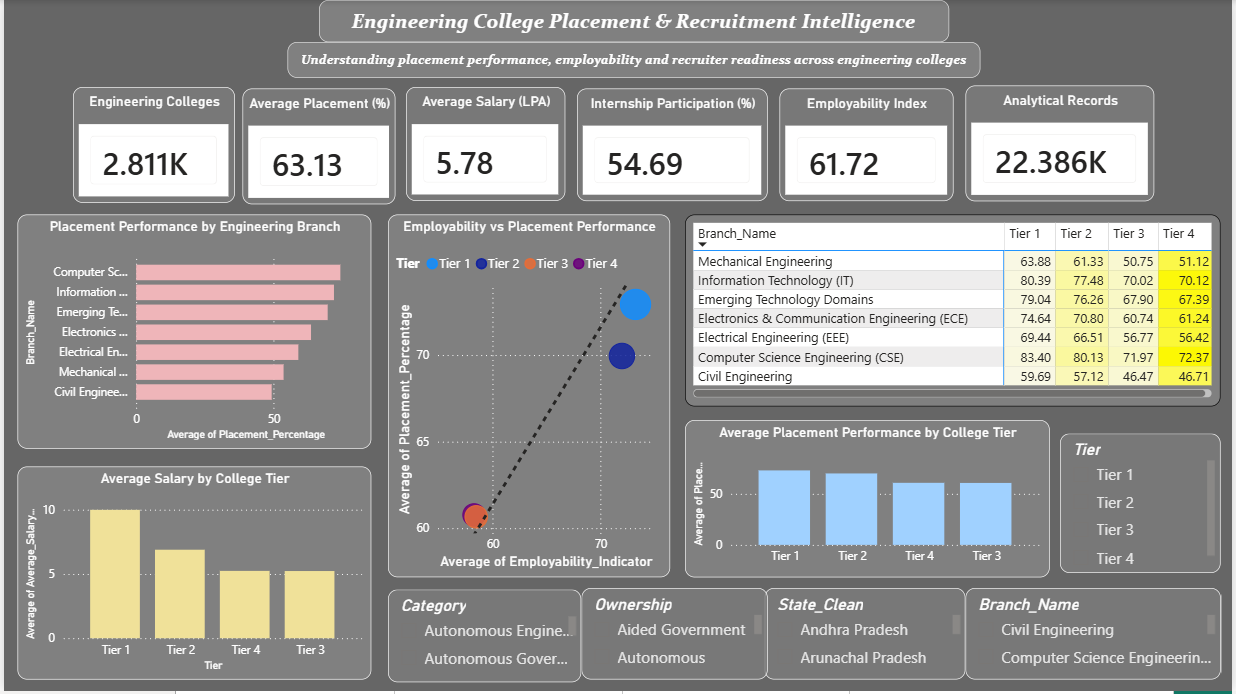

The dashboard page shown, as its layout file describes it:
{"tool":"powerbi","page":{"name":"Executive Overview","canvas":[1280,720],"ordinal":0},"visuals":[{"type":"textbox","box":[328.2,0,656.5,43.8],"z":0},{"type":"textbox","box":[295.4,43.8,722.1,37.5],"z":1000},{"type":"cardVisual","title":"Engineering Colleges","fields":{"Data":["Count(Sheet1.College_Name)"]},"box":[71.9,90.7,168.8,120.4],"z":2000},{"type":"cardVisual","title":"Average Placement (%)","fields":{"Data":["Avg(Sheet1.Placement_Percentage)"]},"box":[248.5,92.2,159.4,120.4],"z":3000},{"type":"cardVisual","title":"Average Salary (LPA)","fields":{"Data":["Avg(Sheet1.Average_Salary_LPA)"]},"box":[418.9,90.7,165.7,118.8],"z":4000},{"type":"cardVisual","title":"Internship Participation (%)","fields":{"Data":["Avg(Sheet1.Internship_Participation_Pct)"]},"box":[597.1,92.2,198.5,117.2],"z":5000},{"type":"cardVisual","title":"Employability Index","fields":{"Data":["Avg(Sheet1.Employability_Indicator)"]},"box":[808.1,92.2,181.3,117.2],"z":6000},{"type":"cardVisual","title":"Analytical Records","fields":{"Data":["CountNonNull(Sheet1.College_Name)"]},"box":[1001.9,89.1,196.9,120.4],"z":7000},{"type":"scatterChart","title":"Employability vs Placement Performance","fields":{"X":["Avg(Sheet1.Employability_Indicator)"],"Y":["Avg(Sheet1.Placement_Percentage)"],"Size":["Avg(Sheet1.Average_Salary_LPA)"],"Series":["Sheet1.Tier"]},"box":[400.1,223.5,293.8,378.2],"z":8000},{"type":"clusteredColumnChart","title":"Average Placement Performance by College Tier","fields":{"Category":["Sheet1.Tier"],"Y":["Avg(Sheet1.Placement_Percentage)"]},"box":[709.6,437.6,379.8,164.1],"z":9000},{"type":"clusteredColumnChart","title":"Average Salary by College Tier","fields":{"Category":["Sheet1.Tier"],"Y":["Avg(Sheet1.Average_Salary_LPA)"]},"box":[14.1,486.1,368.9,221.9],"z":10000},{"type":"clusteredBarChart","title":"Placement Performance by Engineering Branch","fields":{"Category":["Sheet1.Branch_Name"],"Y":["Avg(Sheet1.Placement_Percentage)"]},"box":[14.1,223.5,368.9,243.8],"z":11000},{"type":"pivotTable","fields":{"Rows":["Sheet1.Branch_Name"],"Columns":["Sheet1.Tier"],"Values":["Avg(Sheet1.Placement_Percentage)"]},"box":[709.6,223.5,558,200.1],"z":12000},{"type":"slicer","title":"State","fields":{"Values":["Sheet1.State_Clean"]},"box":[792.4,612.7,209.4,95.3],"z":13000},{"type":"slicer","fields":{"Values":["Sheet1.Tier"]},"box":[1100.3,451.7,167.2,145.4],"z":14000},{"type":"slicer","fields":{"Values":["Sheet1.Branch_Name"]},"box":[1001.9,612.7,265.7,95.3],"z":15000},{"type":"slicer","fields":{"Values":["Sheet1.Category"]},"box":[400.1,614.3,201.6,96.9],"z":16000},{"type":"slicer","fields":{"Values":["Sheet1.Ownership"]},"box":[601.8,612.7,193.8,95.3],"z":17000}]}

Visuals, with their boxes in screenshot pixels (x1, y1, x2, y2), scaled from the page's 1280x720 canvas onto the 1236x694 screenshot:
textbox: 317,0,951,42
textbox: 285,42,983,78
"Engineering Colleges" cardVisual: 69,87,232,203
"Average Placement (%)" cardVisual: 240,89,394,205
"Average Salary (LPA)" cardVisual: 405,87,565,202
"Internship Participation (%)" cardVisual: 577,89,768,202
"Employability Index" cardVisual: 780,89,955,202
"Analytical Records" cardVisual: 967,86,1158,202
"Employability vs Placement Performance" scatterChart: 386,215,670,580
"Average Placement Performance by College Tier" clusteredColumnChart: 685,422,1052,580
"Average Salary by College Tier" clusteredColumnChart: 14,469,370,682
"Placement Performance by Engineering Branch" clusteredBarChart: 14,215,370,450
pivotTable - Sheet1.Branch_Name x Sheet1.Tier: 685,215,1224,408
"State" slicer: 765,591,967,682
slicer - Sheet1.Tier: 1062,435,1224,576
slicer - Sheet1.Branch_Name: 967,591,1224,682
slicer - Sheet1.Category: 386,592,581,686
slicer - Sheet1.Ownership: 581,591,768,682
